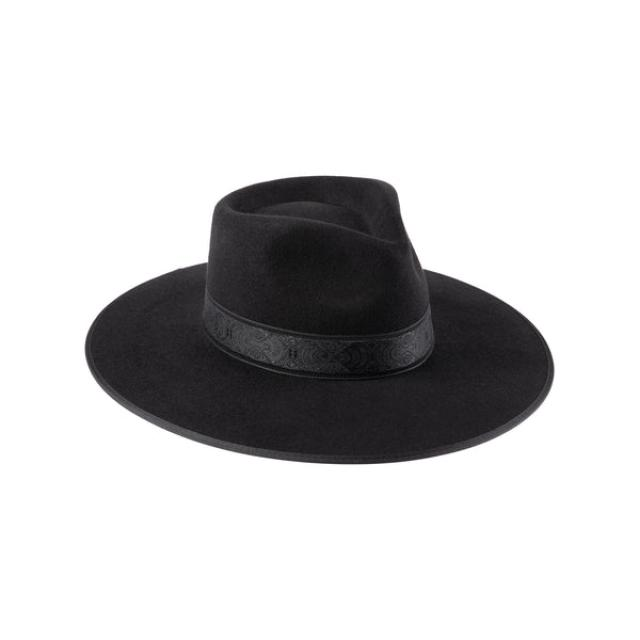hat: (61, 170, 565, 474)
